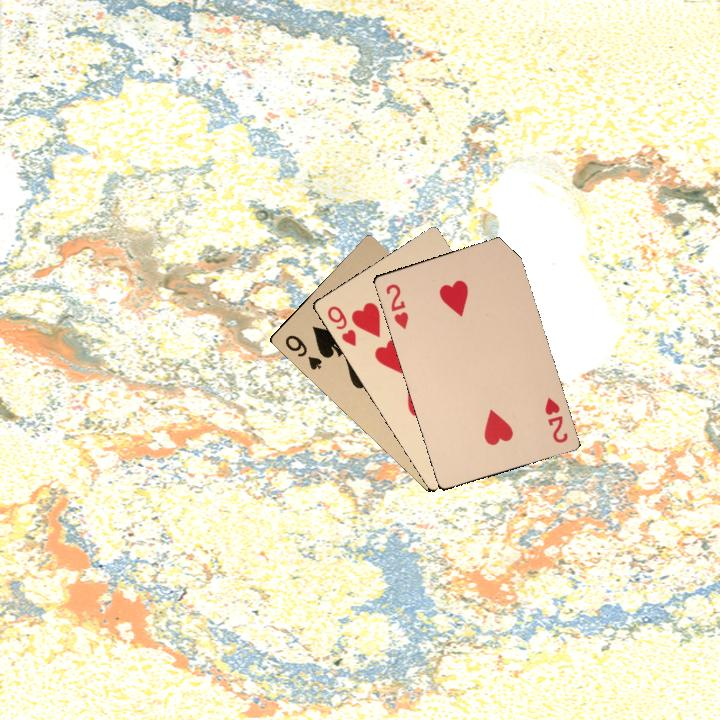2h: (541, 393, 571, 446), (382, 280, 411, 332)
9h: (323, 302, 359, 349)
9s: (281, 331, 325, 373)
